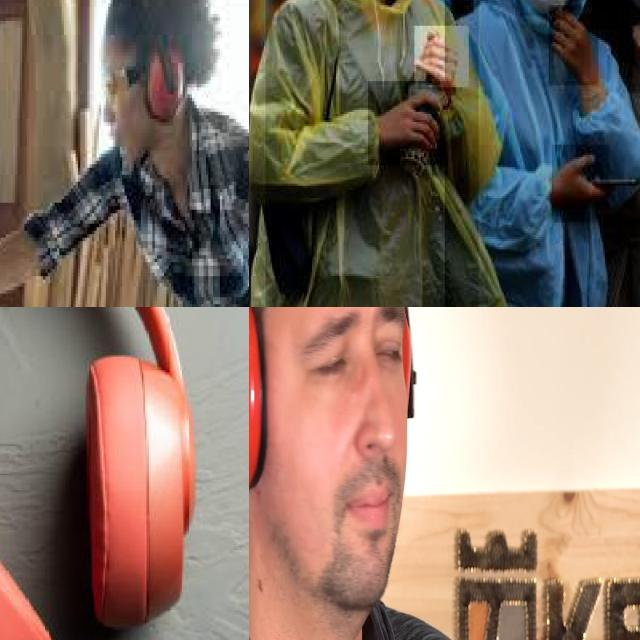Ear-protection: (0, 307, 221, 640), (249, 307, 418, 608), (141, 32, 185, 122)
glasses: (101, 45, 141, 98)
hand_noglove: (368, 81, 446, 167), (552, 144, 611, 224), (549, 5, 598, 85), (414, 26, 469, 87), (627, 11, 640, 93)
person: (0, 0, 249, 307), (265, 0, 478, 307), (445, 0, 640, 307)
